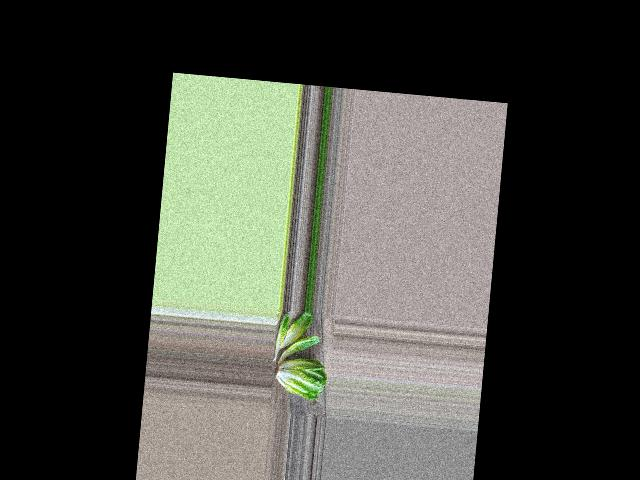lettuce: (275, 354, 328, 402)
